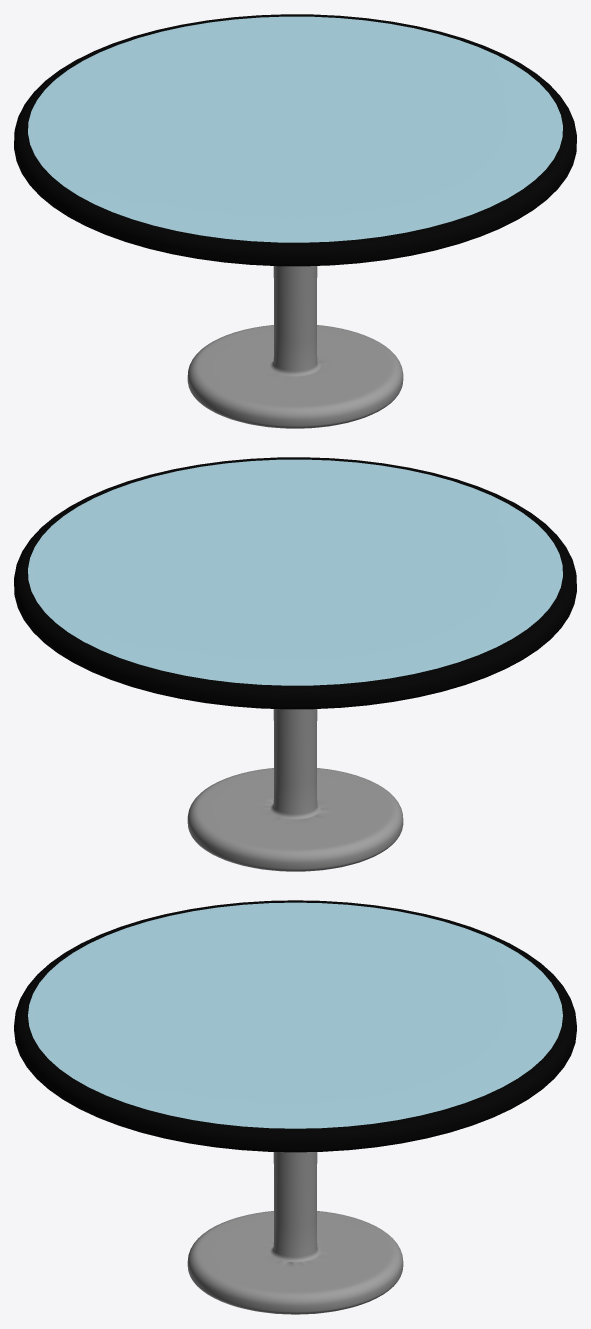
Rendered from Table.fbx.
3 renders of one model, top to bottom at view 1: azimuth 30°, elevation 25°; view 2: azimuth 150°, elevation 25°; view 3: azimuth 270°, elevation 25°, orthographic.
Visible parts, largest first — view 1: Table; view 2: Table; view 3: Table.
Boxes of the visible parts, x1,y1,x2,y2 form: Table: [14, 14, 576, 428]; Table: [14, 457, 576, 871]; Table: [14, 900, 576, 1314].
Bounding box in the file's own units: 519 × 260 × 519.
